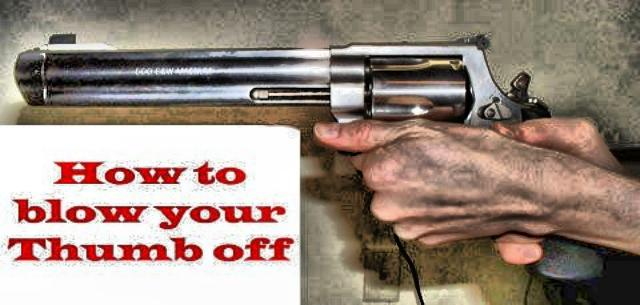pistol: (10, 27, 604, 277)
